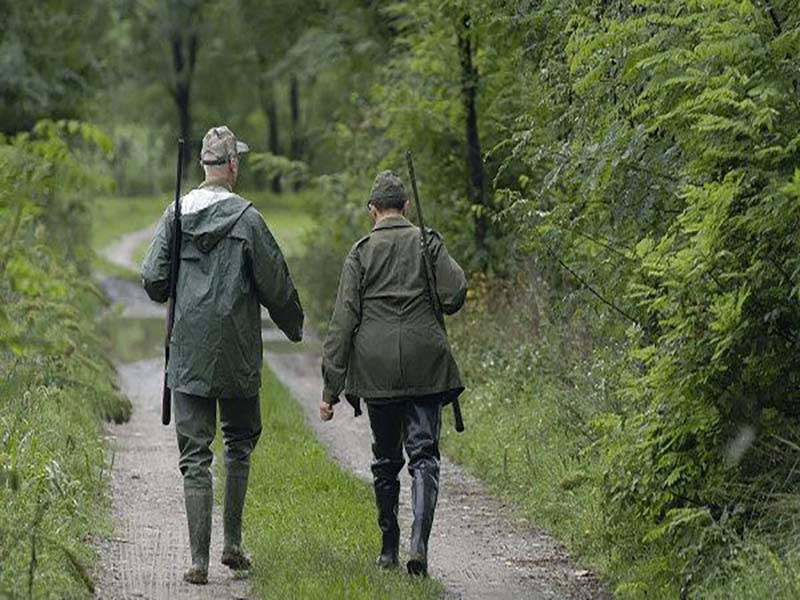cacciatore: (149, 109, 306, 566), (328, 155, 478, 588)
